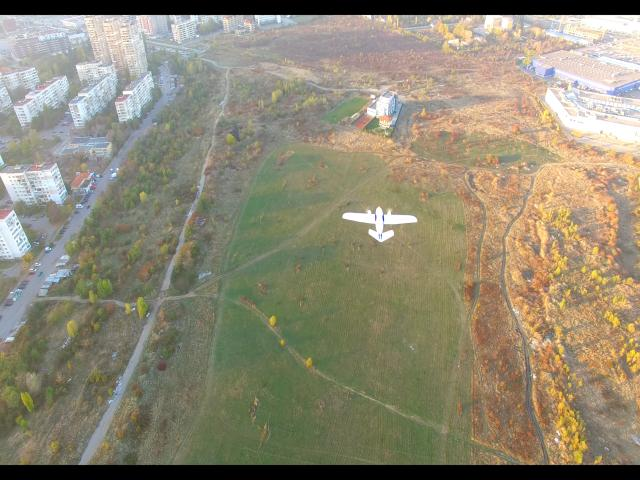plane: (341, 204, 417, 243)
